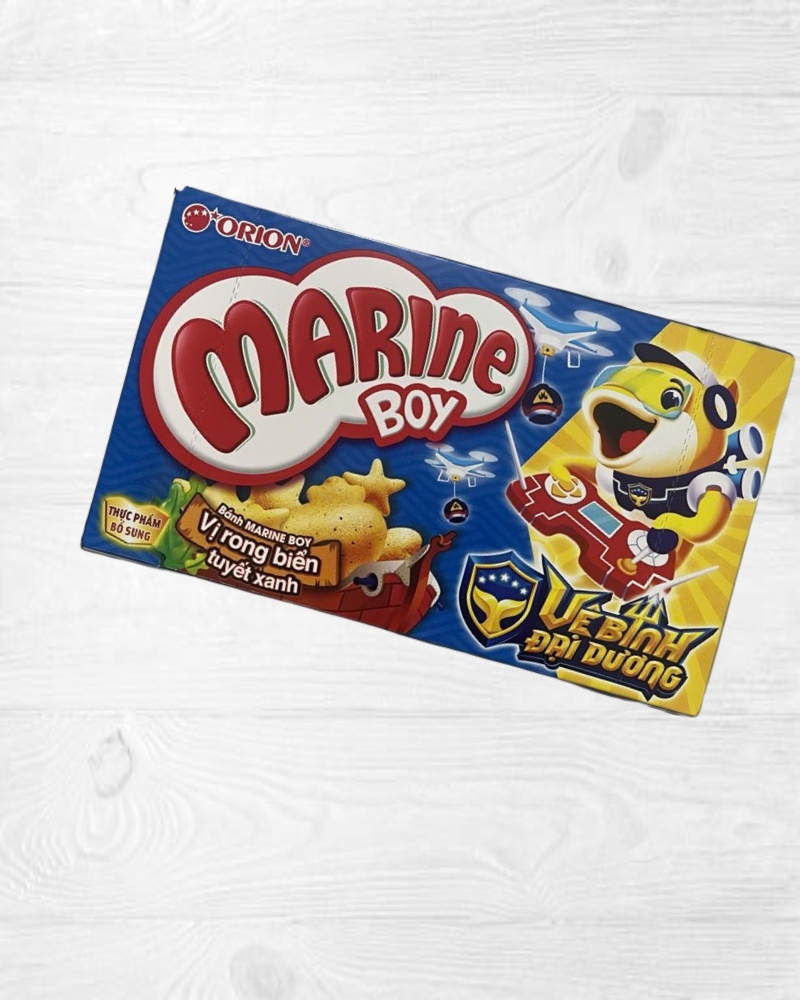Marine: (80, 185, 800, 721)
